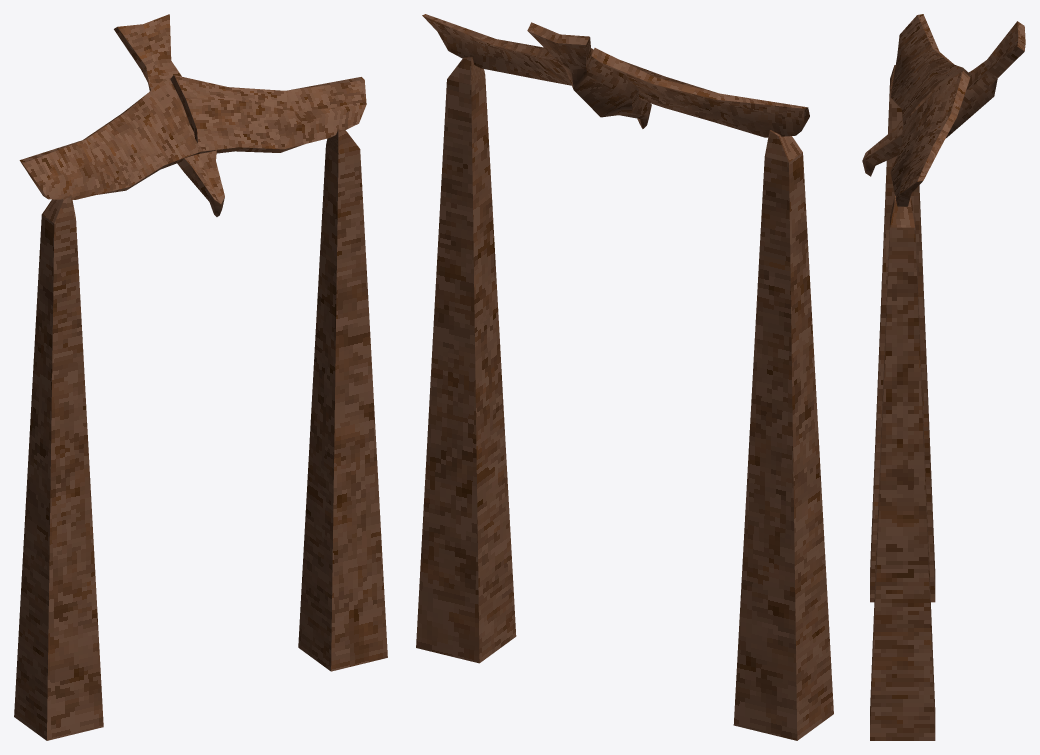
File: gatedive.gltf
3 renders of one model, left to right at view 1: azimuth 30°, elevation 25°; view 2: azimuth 150°, elevation 25°; view 3: azimuth 270°, elevation 25°, orthographic. The views are drawn at different scales.
Parts seen in each view (by area): view 1: gatevulture; view 2: gatevulture; view 3: gatevulture.
Part boxes in pixels (x1=…): gatevulture: x1=14, y1=14, x2=387, y2=740; gatevulture: x1=416, y1=14, x2=833, y2=740; gatevulture: x1=862, y1=14, x2=1025, y2=740.
Bounding box in the file's own units: 12.04 × 21.01 × 4.99.
1 material, 1 textured.
